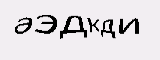Д: (60, 13, 89, 40), (100, 16, 116, 38)
И: (116, 12, 140, 36)
К: (86, 15, 99, 34)
Э: (33, 11, 58, 36)
Ә: (10, 15, 33, 35)
